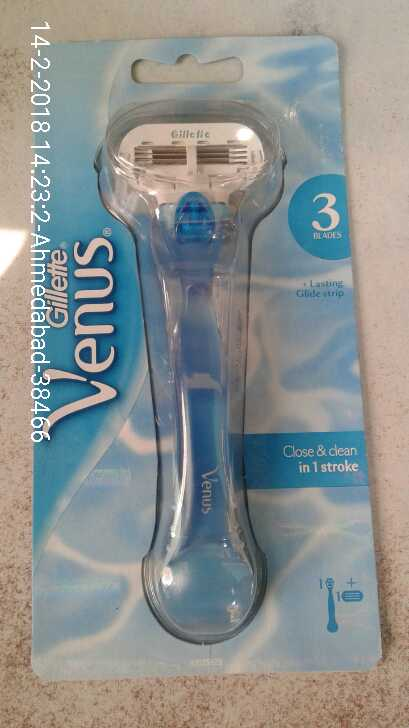venus: (36, 42, 376, 674)
